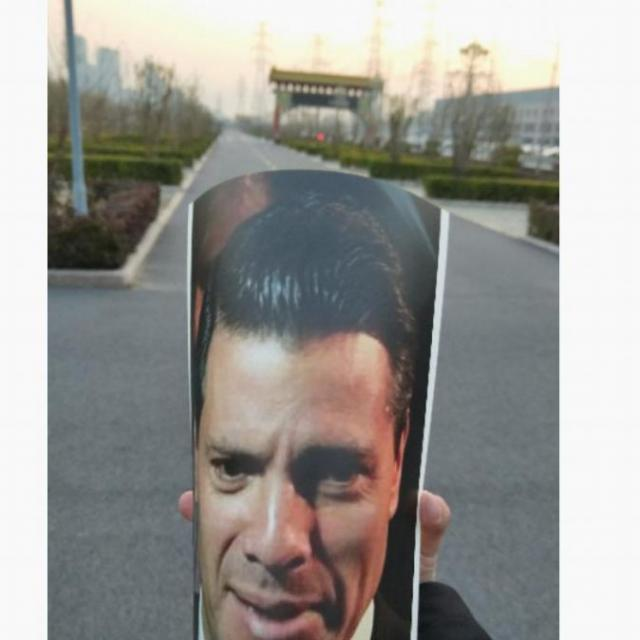photo: (162, 163, 460, 640)
